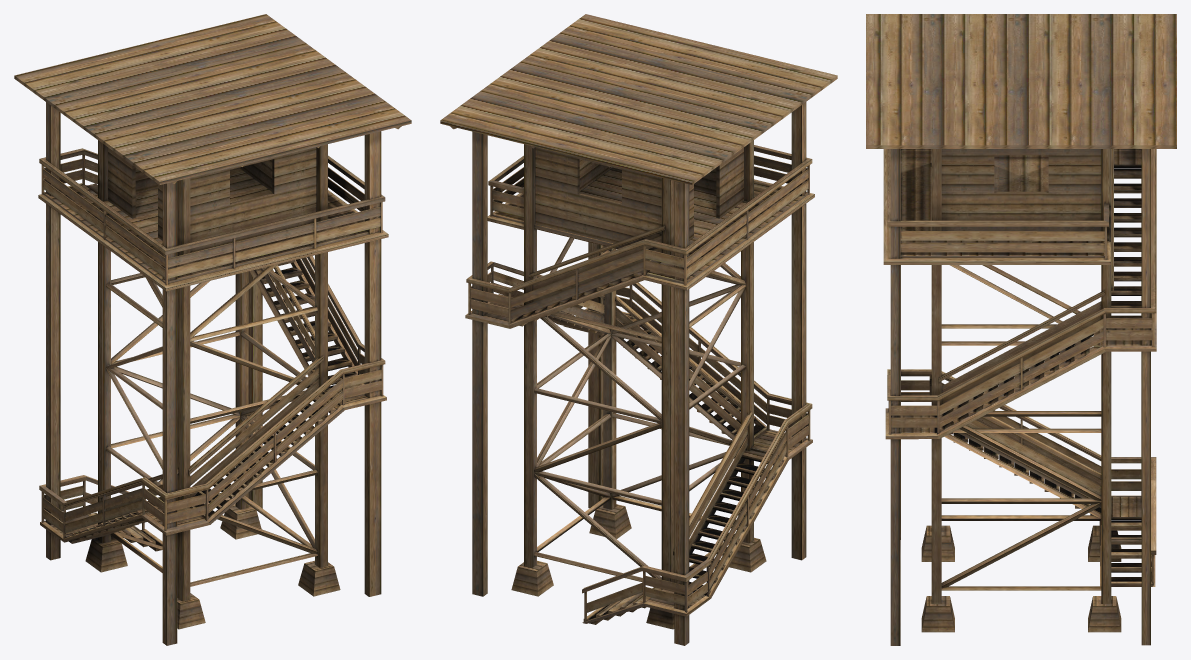
Rendered from wood_tower.gltf.
The picture shows the model from 3 angles, left to right: view 1: azimuth 30°, elevation 25°; view 2: azimuth 150°, elevation 25°; view 3: azimuth 270°, elevation 25°; orthographic projection. The views are drawn at different scales.
Visible parts, largest first — view 1: watchtowerHigh; view 2: watchtowerHigh; view 3: watchtowerHigh.
Boxes of the visible parts, x1,y1,x2,y2 form: watchtowerHigh: (14,14,411,645); watchtowerHigh: (440,14,837,645); watchtowerHigh: (866,14,1176,645).
Bounding box in the file's own units: 4.22 × 7.65 × 4.22.
1 material, 1 textured.
